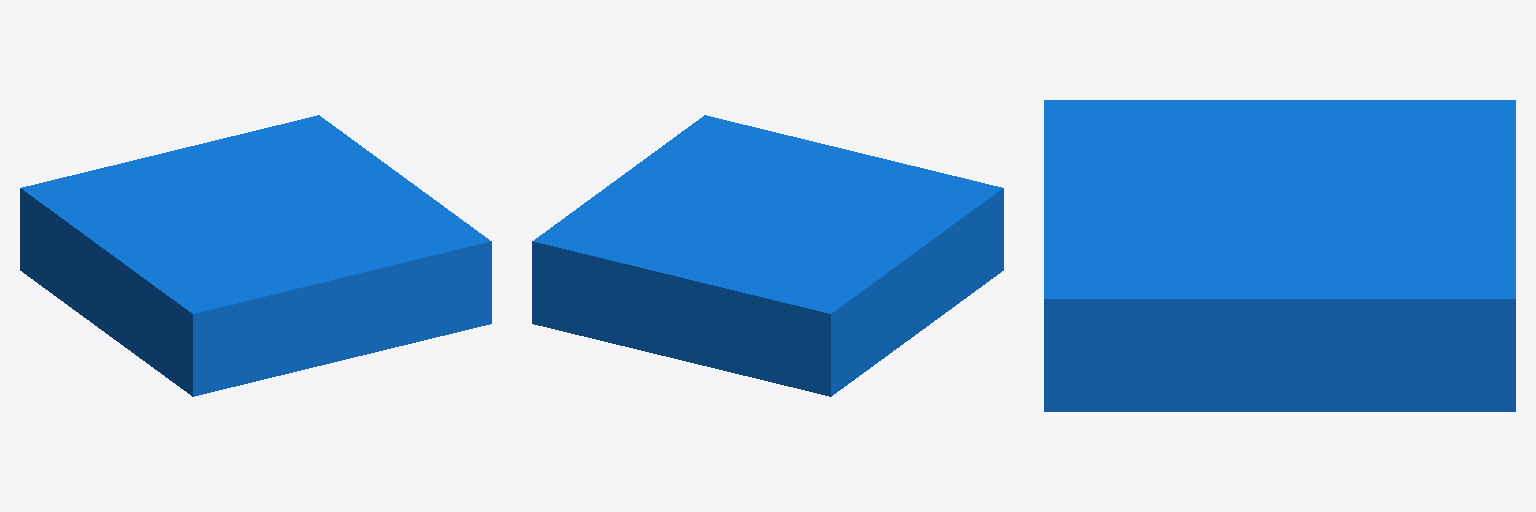
The robot description file, URDF, robot "hospital_amr1_rviz_square":
<?xml version="1.0"?>
<robot name="hospital_amr1_rviz_square">
  <material name="amr_blue">
    <color rgba="0.12 0.55 0.95 1.0"/>
  </material>

  <!-- RViz 전용 단순 표시입니다. 실제 Isaac AMR 및 Nav2 footprint 크기는 바꾸지 않습니다. -->
  <link name="base_link">
    <visual>
      <origin xyz="0 0 0.045" rpy="0 0 0"/>
      <geometry>
        <box size="0.34 0.34 0.09"/>
      </geometry>
      <material name="amr_blue"/>
    </visual>
  </link>

  <link name="base_scan"/>
  <joint name="base_to_scan" type="fixed">
    <parent link="base_link"/>
    <child link="base_scan"/>
    <origin xyz="0 0 0.32" rpy="0 0 0"/>
  </joint>
</robot>

--- What the picture shows (computed from the rendered views, not written in the file) ---
The picture shows the robot from 3 angles, left to right: view 1: azimuth 30°, elevation 25°; view 2: azimuth 150°, elevation 25°; view 3: azimuth 270°, elevation 25°; orthographic projection.
Model hospital_amr1_rviz_square with 2 links and 1 joints (1 fixed), rooted at base_link, posed every joint at zero.
Links seen in each view (by area): view 1: base_link; view 2: base_link; view 3: base_link.
Link boxes in pixels (box(x1,y1,x2,y2)): base_link: box(20, 115, 491, 396); base_link: box(532, 115, 1003, 396); base_link: box(1044, 100, 1515, 411).
Bounding box of the posed robot: 0.34 × 0.34 × 0.09 m (x, y, z).
Geometry: primitives only (box / cylinder / sphere), no mesh files.
